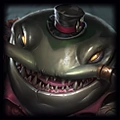Thamakench: (4, 5, 115, 113)
